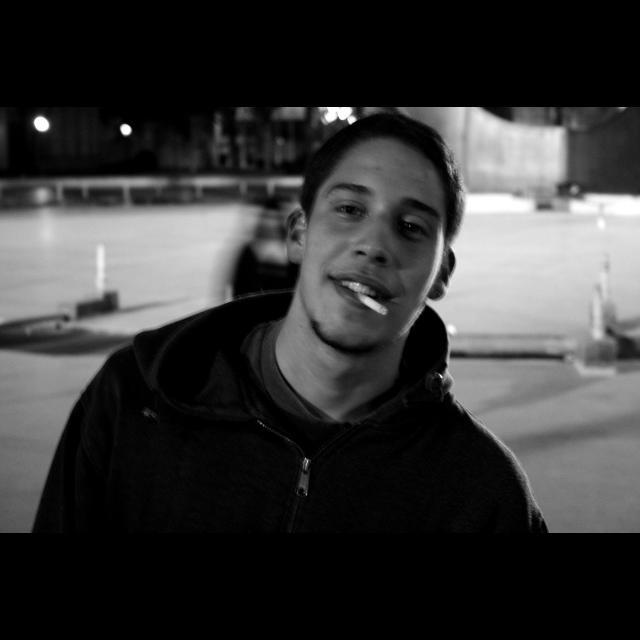rokok: (358, 292, 390, 320)
